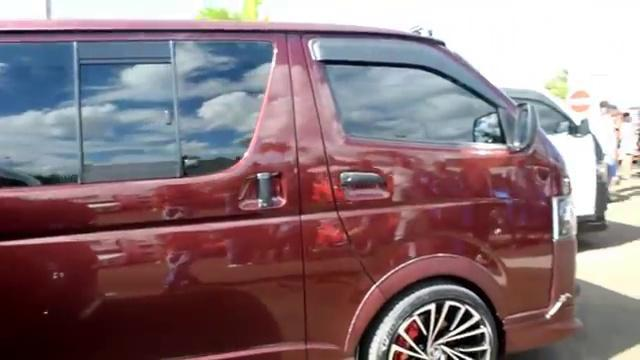van: (1, 12, 584, 360)
